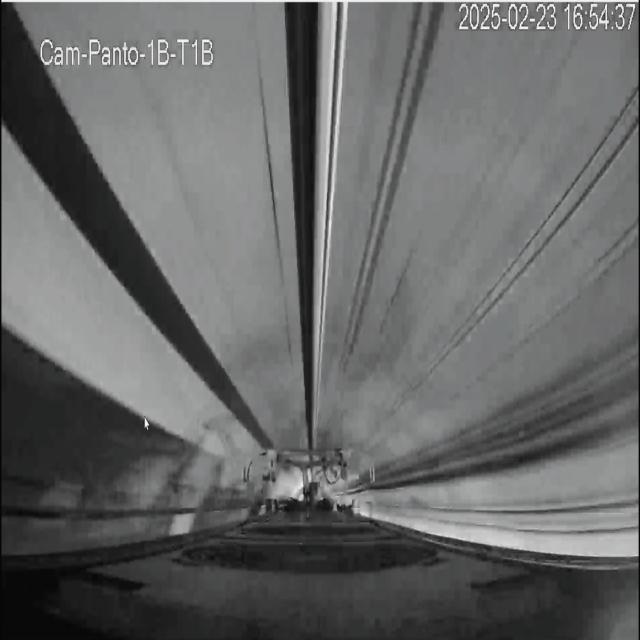Camera Stamp: (34, 28, 219, 70)
Date Stamp: (458, 3, 636, 33)
